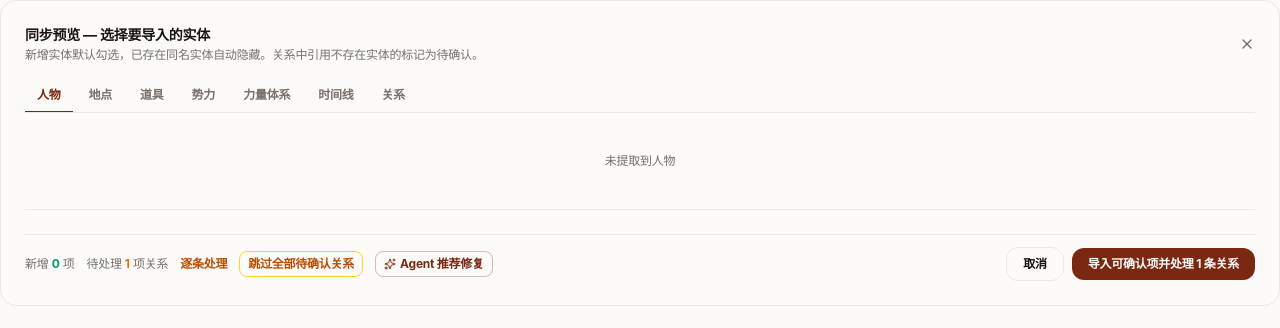
Scenario: relationship repair recommendations › shows retry while keeping manual select
Click the button "Agent 推荐修复": (434, 264) [375, 251, 493, 277]
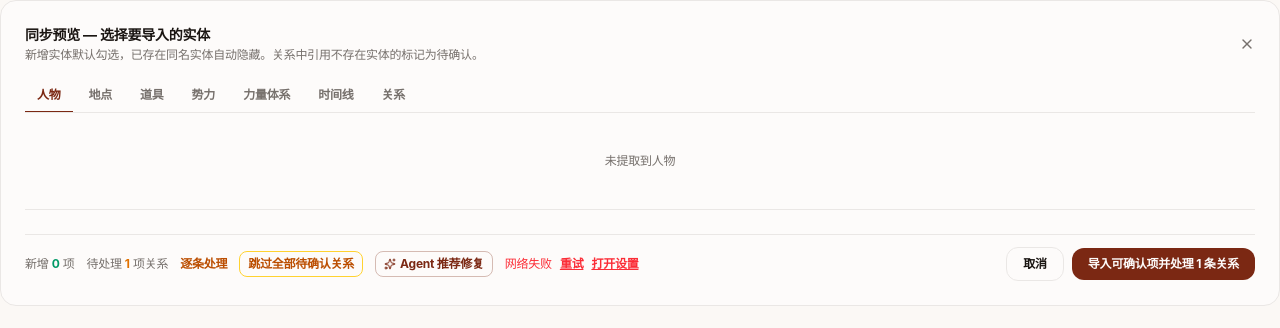
Now the text "网络失败" is shown, box [505, 256, 552, 272]
Click the button "关系": (393, 96) [370, 79, 417, 113]
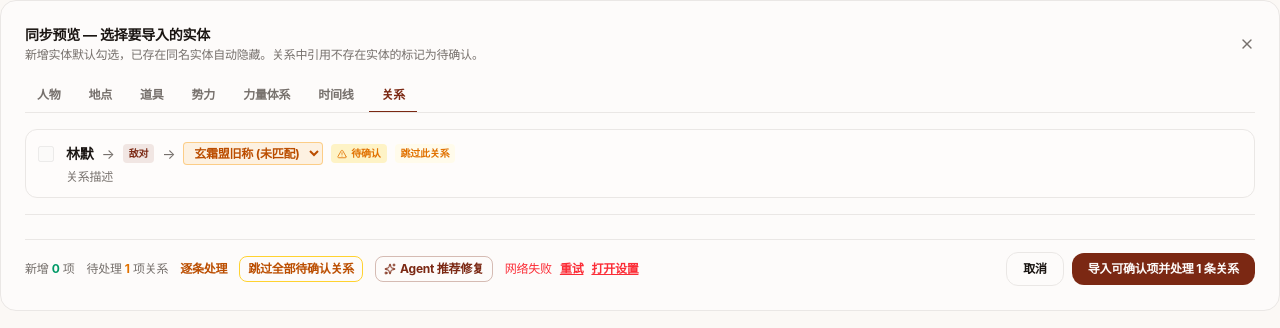
Now the button "重试" is shown, box [560, 261, 583, 277]
Now the dropdown is shown, box [183, 142, 323, 165]
